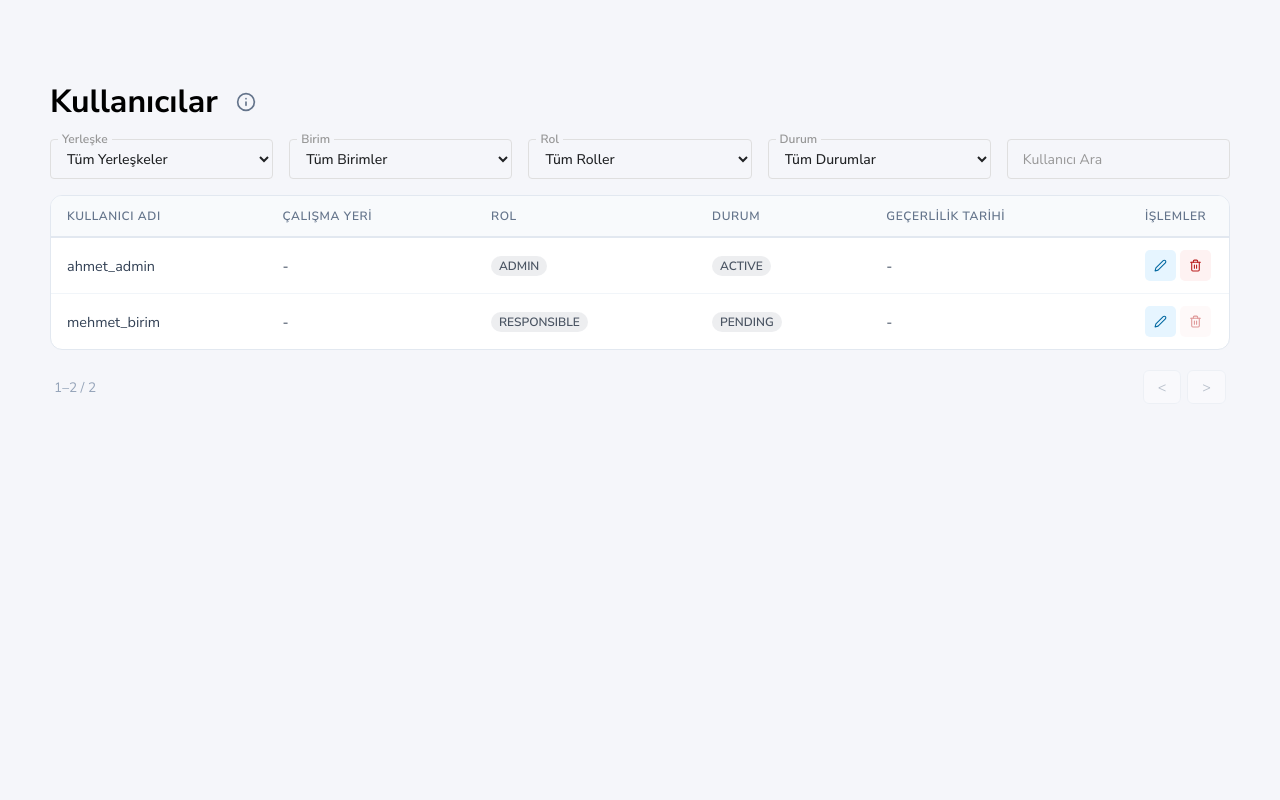
Test case: UsersPage (Kullanıcı Yönetimi) › bir kullanıcıyı silmek istediğinde onay modali açılmalı ve onaylanınca silmeli
Click the 1st button with class "delete-btn". click: (1196, 266)
box: [1180,250,1211,281]
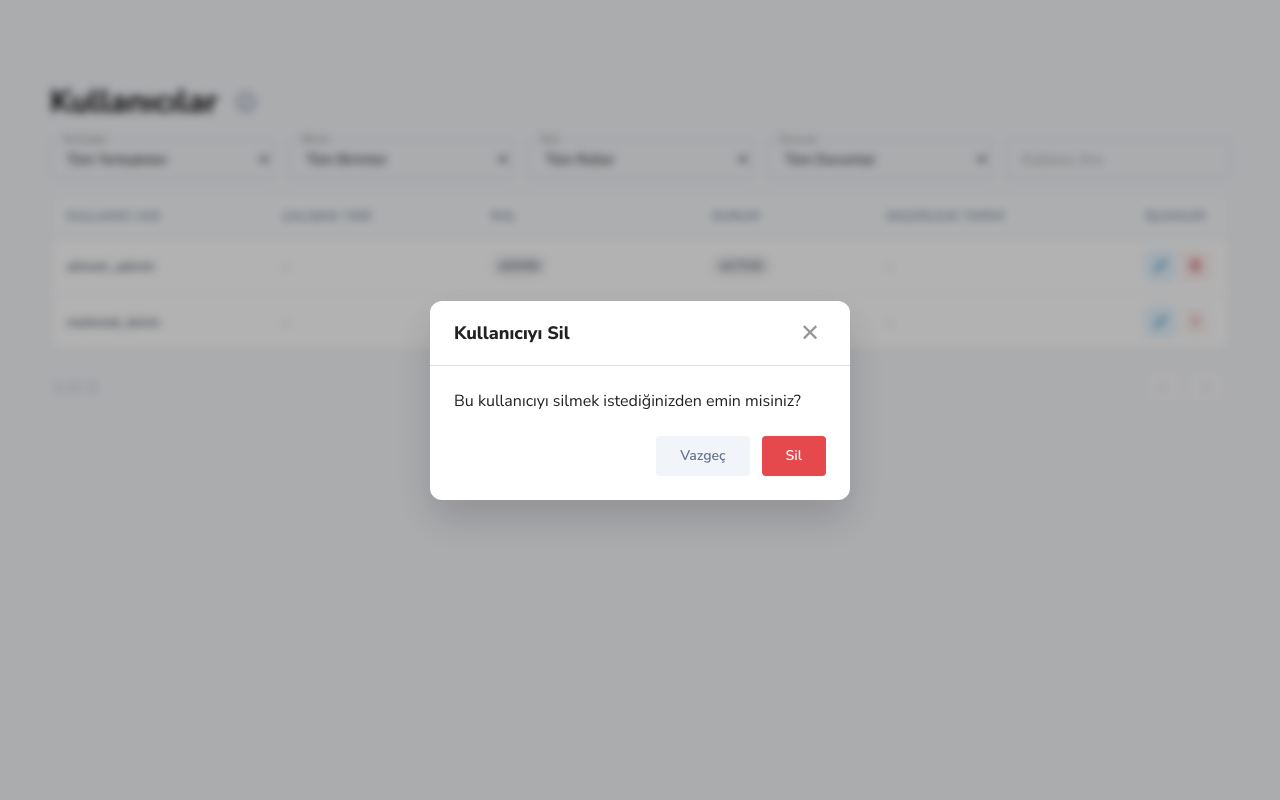
Result: the heading "Kullanıcıyı Sil" is shown at [454,320,570,344]
Note: 'Sil' onay butonuna bas
Click the button "Sil". click: (794, 456)
box: [762,436,826,476]
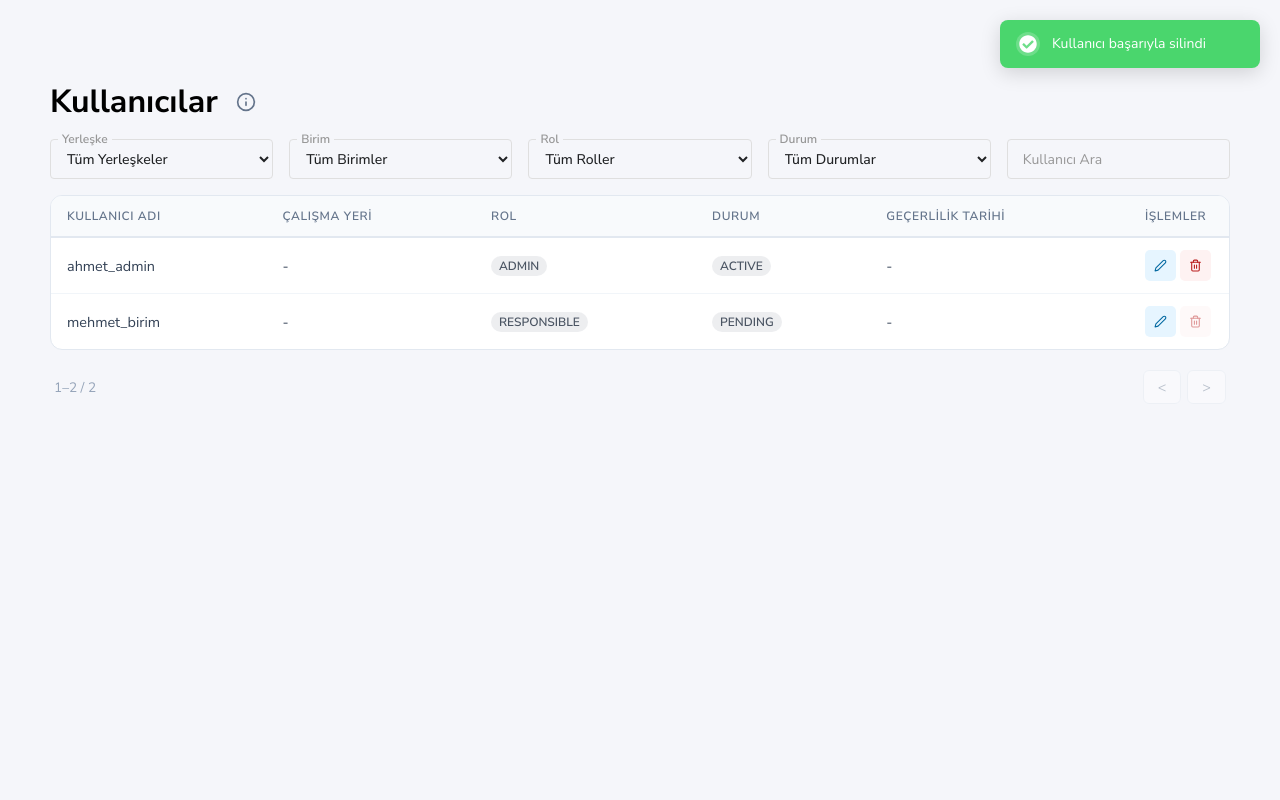
Result: the text "Kullanıcı başarıyla silindi" is shown at [1052,34,1206,53]
